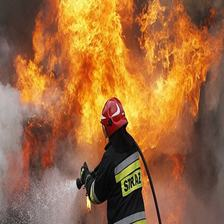fire: (43, 1, 219, 95), (12, 11, 71, 203), (126, 86, 209, 142), (144, 135, 193, 224), (70, 85, 101, 158)
